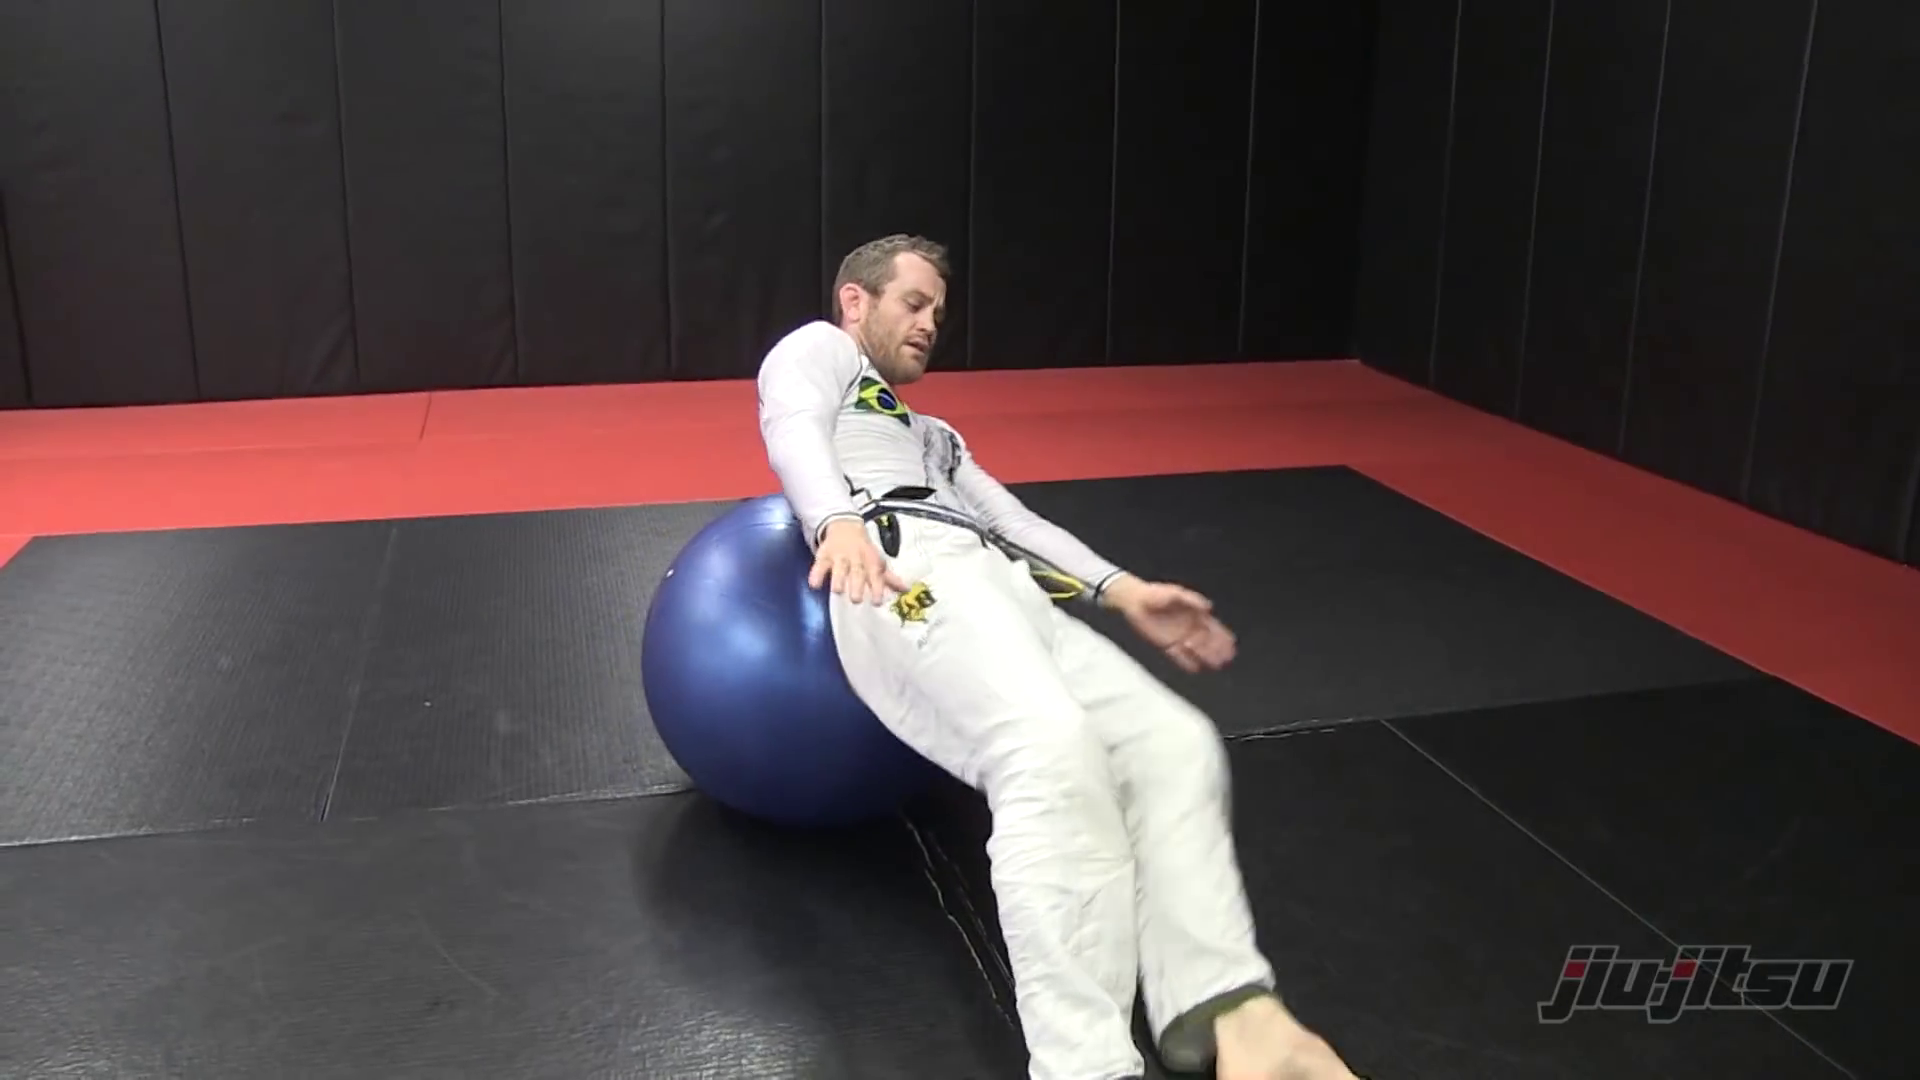yogaball: (622, 481, 1015, 855)
